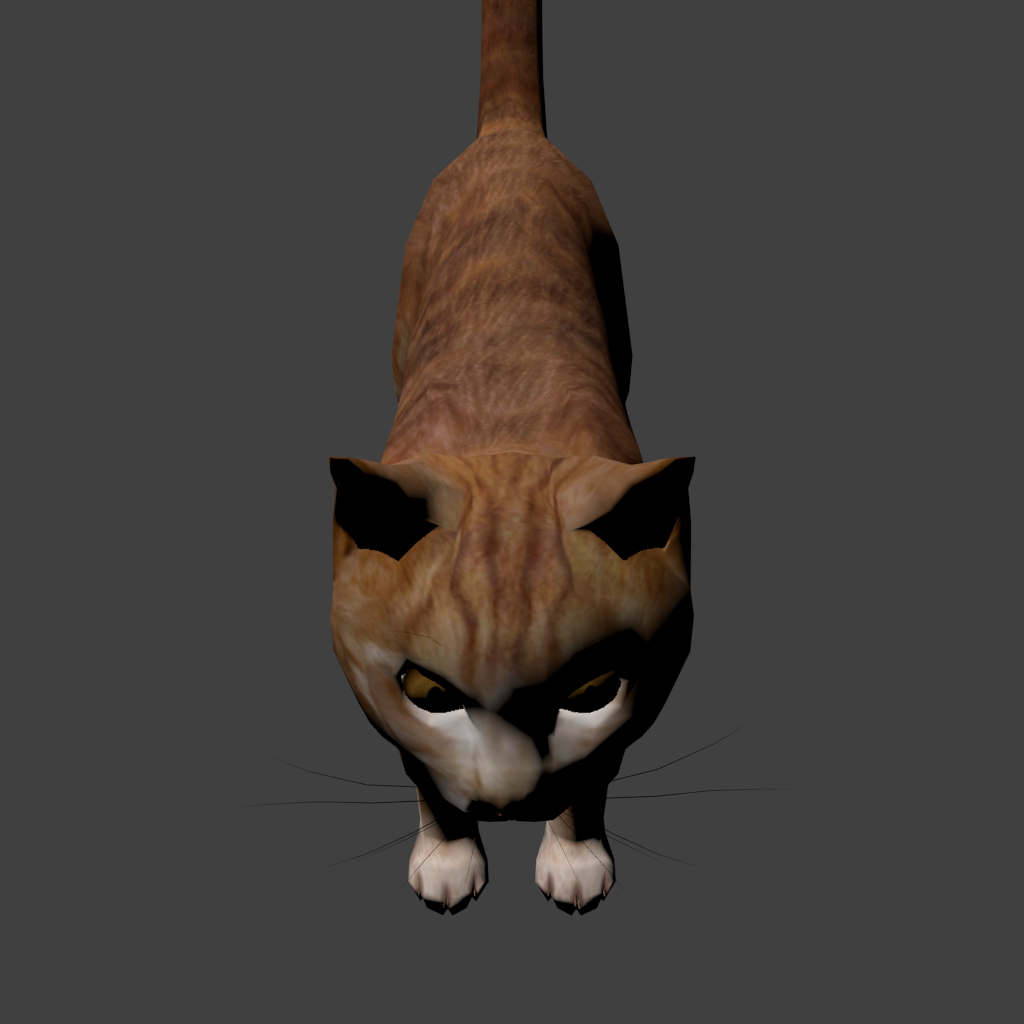Cat: (235, 0, 564, 916)
